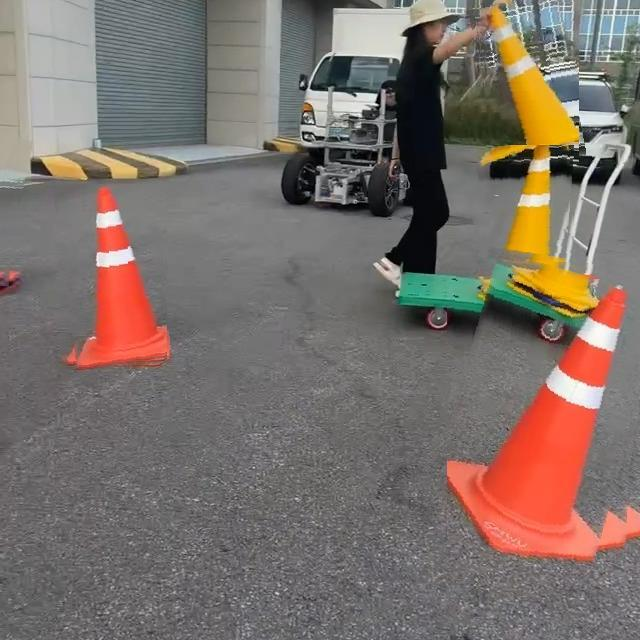fallen_object: (399, 257, 640, 613), (449, 17, 633, 336), (40, 149, 148, 481)
